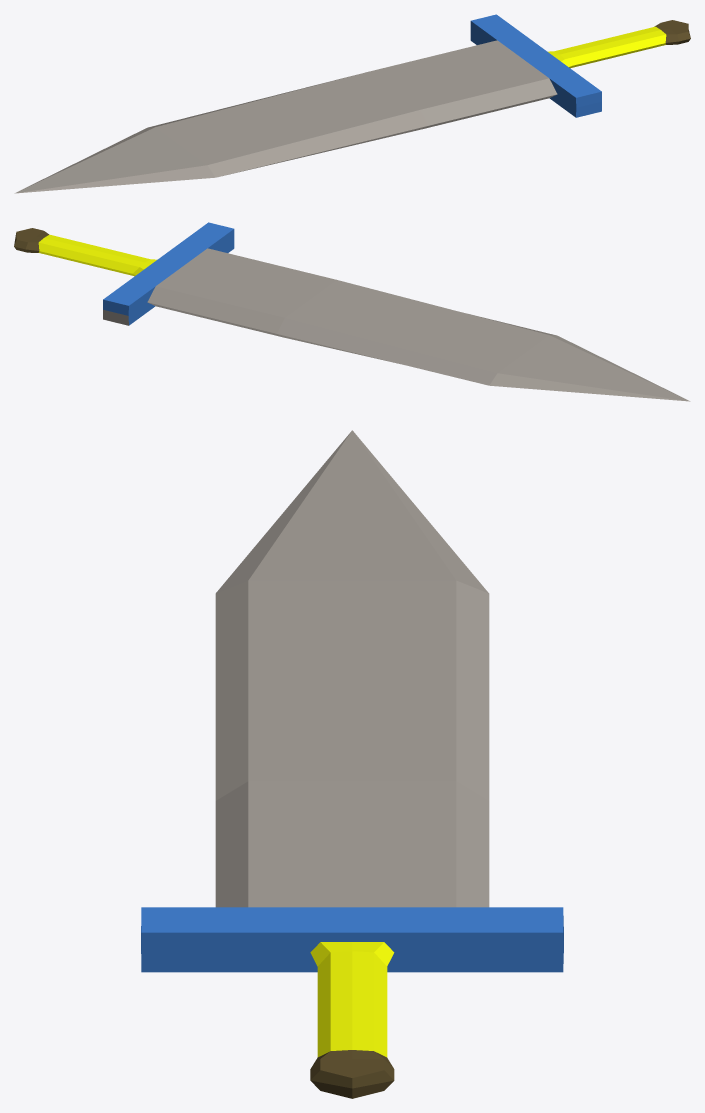
Rendered from Sword_v_001.fbx.
The picture shows the model from 3 angles, top to bottom: view 1: azimuth 30°, elevation 25°; view 2: azimuth 150°, elevation 25°; view 3: azimuth 270°, elevation 25°; orthographic projection. The views are drawn at different scales.
Visible parts, largest first — view 1: SwordGeo; view 2: SwordGeo; view 3: SwordGeo.
Boxes of the visible parts, <box> form: SwordGeo: <box>14,14,690,193</box>; SwordGeo: <box>14,222,690,401</box>; SwordGeo: <box>141,430,563,1098</box>.
Bounding box in the file's own units: 86.09 × 317 × 8.97.
